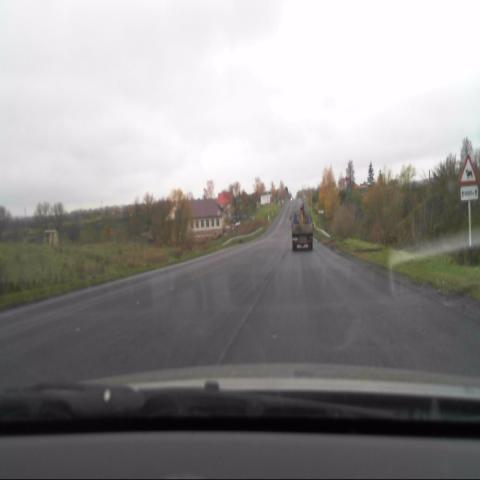1_26: (460, 155, 476, 183)
